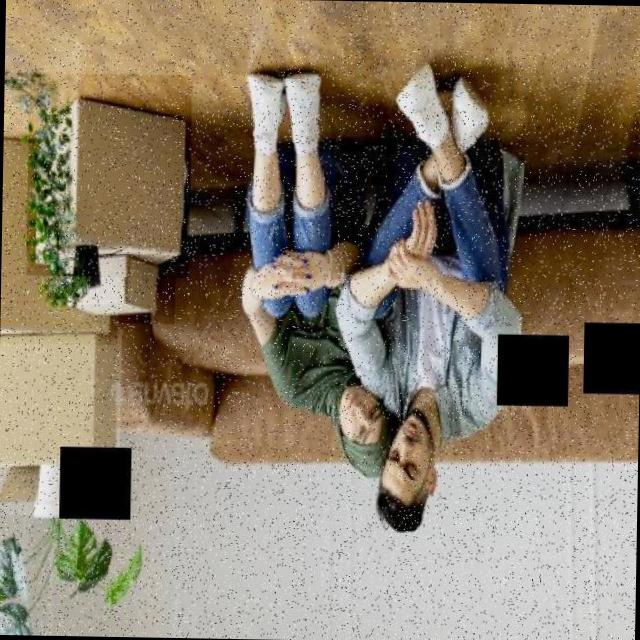box: (25, 72, 192, 278), (0, 106, 120, 345), (0, 326, 121, 516), (72, 229, 177, 324)
